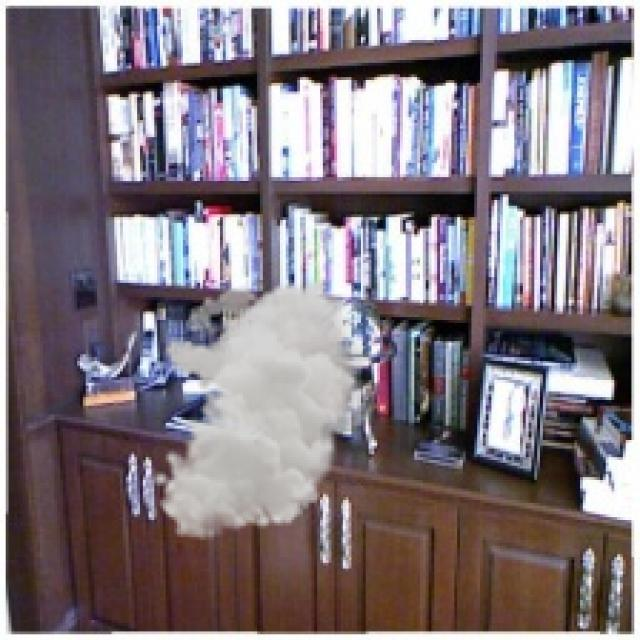Smoke: (151, 277, 380, 540)
